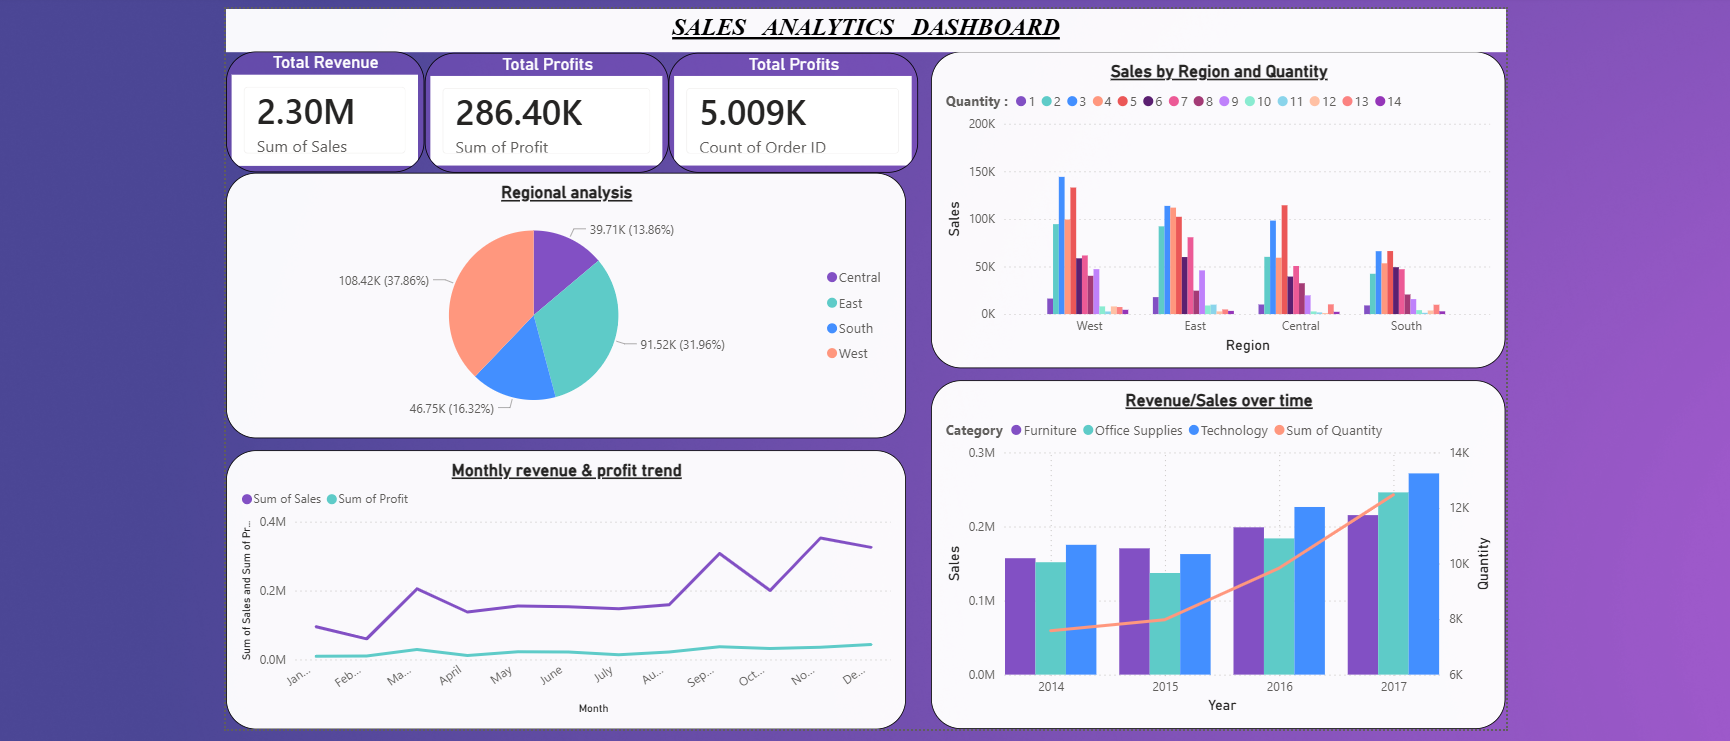

Layout of this report page (visuals, bound fields, positions):
{"tool":"powerbi","page":{"name":"Page 1","canvas":[1280,720],"ordinal":0},"visuals":[{"type":"pieChart","title":"Regional analysis","fields":{"Y":["Sum(flie1 csv.Profit)"],"Series":["flie1 csv.Region"]},"box":[0,163.9,692.1,277.6],"z":0},{"type":"clusteredColumnChart","title":"Sales by Region and Quantity","fields":{"Category":["flie1 csv.Region"],"Series":["flie1 csv.Quantity"],"Y":["Sum(flie1 csv.Sales)"]},"box":[693.8,42.5,586.2,317.5],"z":1000},{"type":"lineClusteredColumnComboChart","title":"Revenue/Sales over time","fields":{"Category":["flie1 csv.Order Date.Variation.Date Hierarchy.Year"],"Y":["Sum(flie1 csv.Sales)"],"Series":["flie1 csv.Category"],"Y2":["Sum(flie1 csv.Quantity)"]},"box":[693.3,359.5,587,360.7],"z":2000},{"type":"textbox","box":[0,0,1280,42.9],"z":3000},{"type":"cardVisual","title":"Total Revenue","fields":{"Data":["Sum(flie1 csv.Sales)"]},"box":[0,42.8,198.1,121.1],"z":4000},{"type":"cardVisual","title":"Total Profits","fields":{"Data":["Sum(flie1 csv.Profit)"]},"box":[198.6,44.3,244.3,120],"z":5000},{"type":"cardVisual","title":"Total Profits","fields":{"Data":["Count(flie1 csv.Order ID)"]},"box":[442.7,44,249.5,119.8],"z":6000},{"type":"lineChart","title":"Monthly revenue & profit trend","fields":{"Category":["flie1 csv.Order Date.Variation.Date Hierarchy.Month"],"Y":["Sum(flie1 csv.Sales)","Sum(flie1 csv.Profit)"]},"box":[0,441.4,691.4,278.6],"z":7000}]}

Visuals, with their boxes in screenshot pixels (x1, y1, x2, y2):
"Regional analysis" pieChart: x1=252 y1=164 x2=928 y2=435
"Sales by Region and Quantity" clusteredColumnChart: x1=930 y1=46 x2=1502 y2=356
"Revenue/Sales over time" lineClusteredColumnComboChart: x1=929 y1=355 x2=1502 y2=708
textbox: x1=252 y1=5 x2=1502 y2=46
"Total Revenue" cardVisual: x1=252 y1=46 x2=446 y2=164
"Total Profits" cardVisual: x1=446 y1=48 x2=685 y2=165
"Total Profits" cardVisual: x1=684 y1=47 x2=928 y2=164
"Monthly revenue & profit trend" lineChart: x1=252 y1=435 x2=927 y2=707
